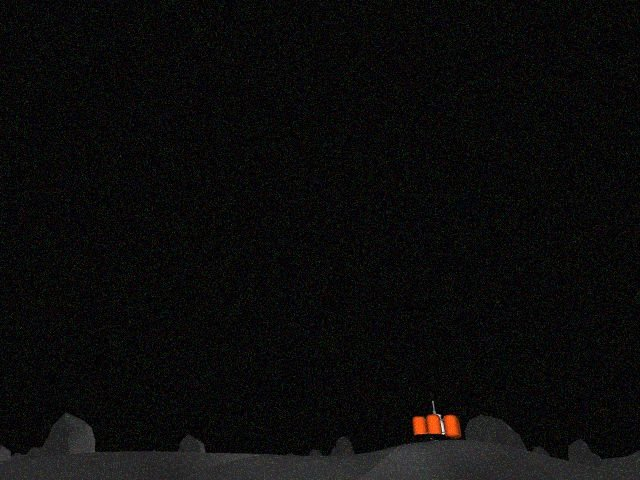homebase: (400, 384, 477, 467)
